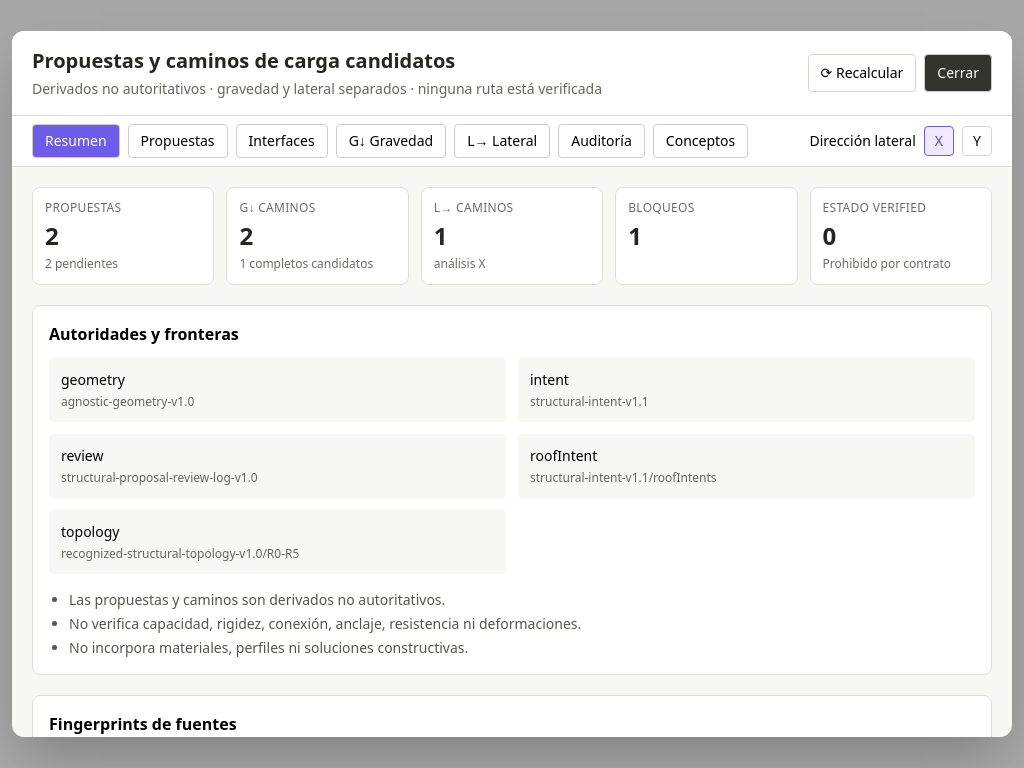
Test: SPEC-015-D REV7: relación en planta muestra origen y objetivo en localizador compacto
The image size is (1024, 768).
Click the button "Propuestas". click: (178, 141)
box: [128,124,228,158]
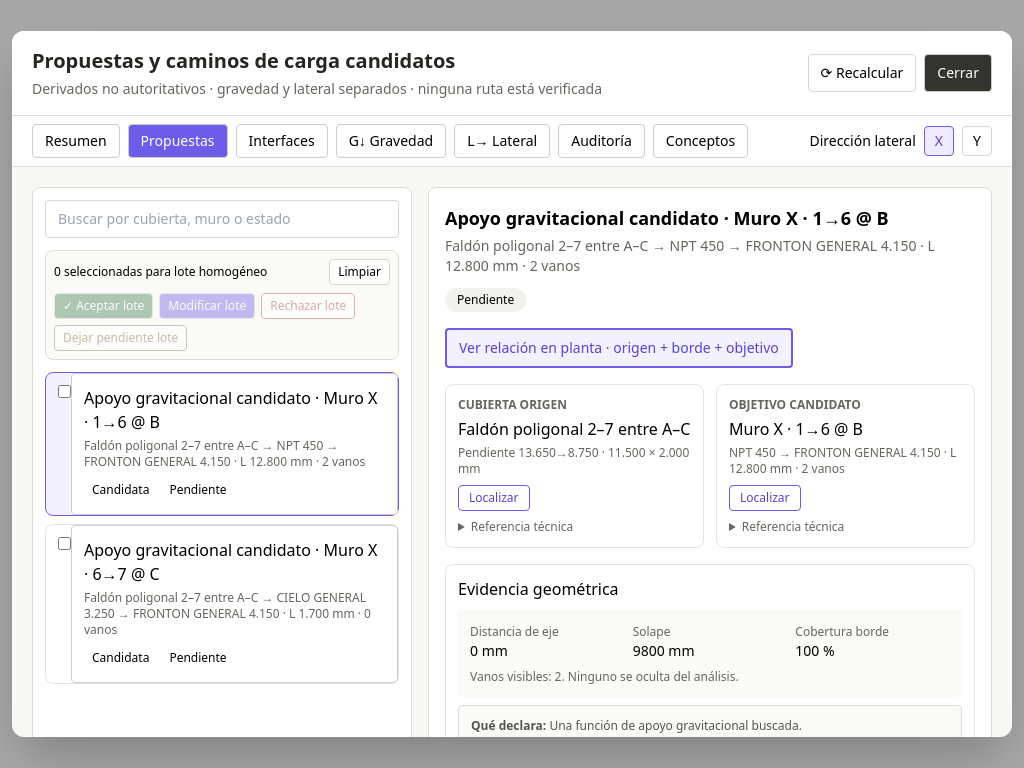
Click the button "Ver relación en planta · origen + borde + objetivo". click: (619, 348)
box: [445,328,793,368]
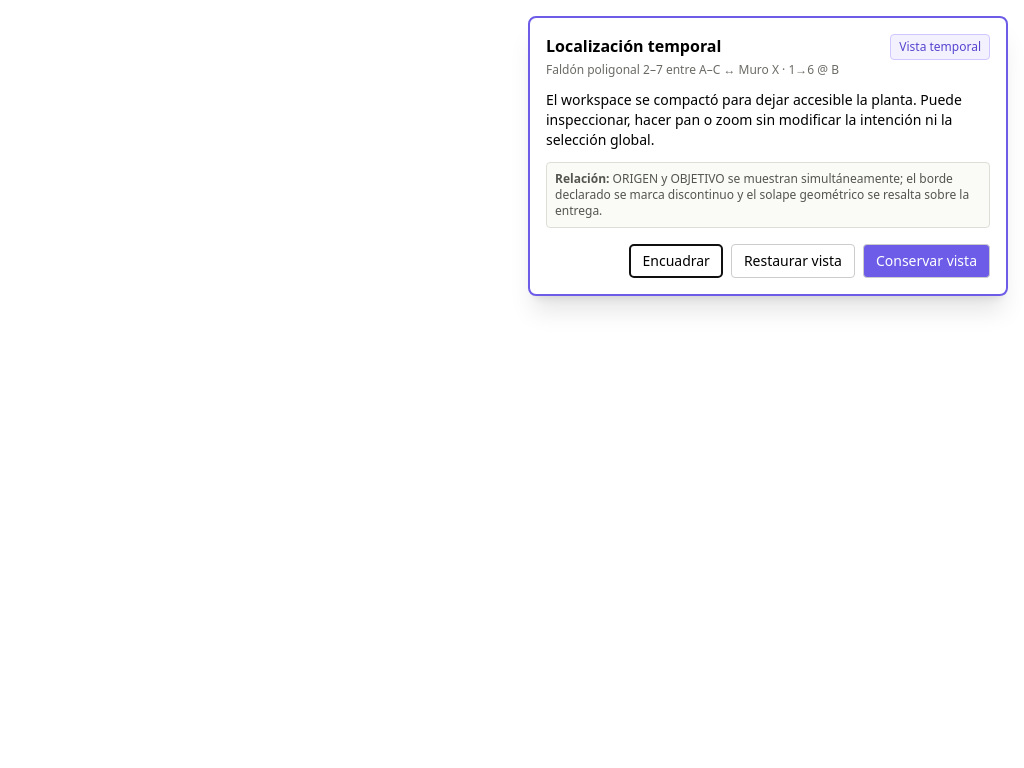
Expected: the text "ORIGEN y OBJETIVO" is shown, [555,170,969,219]
